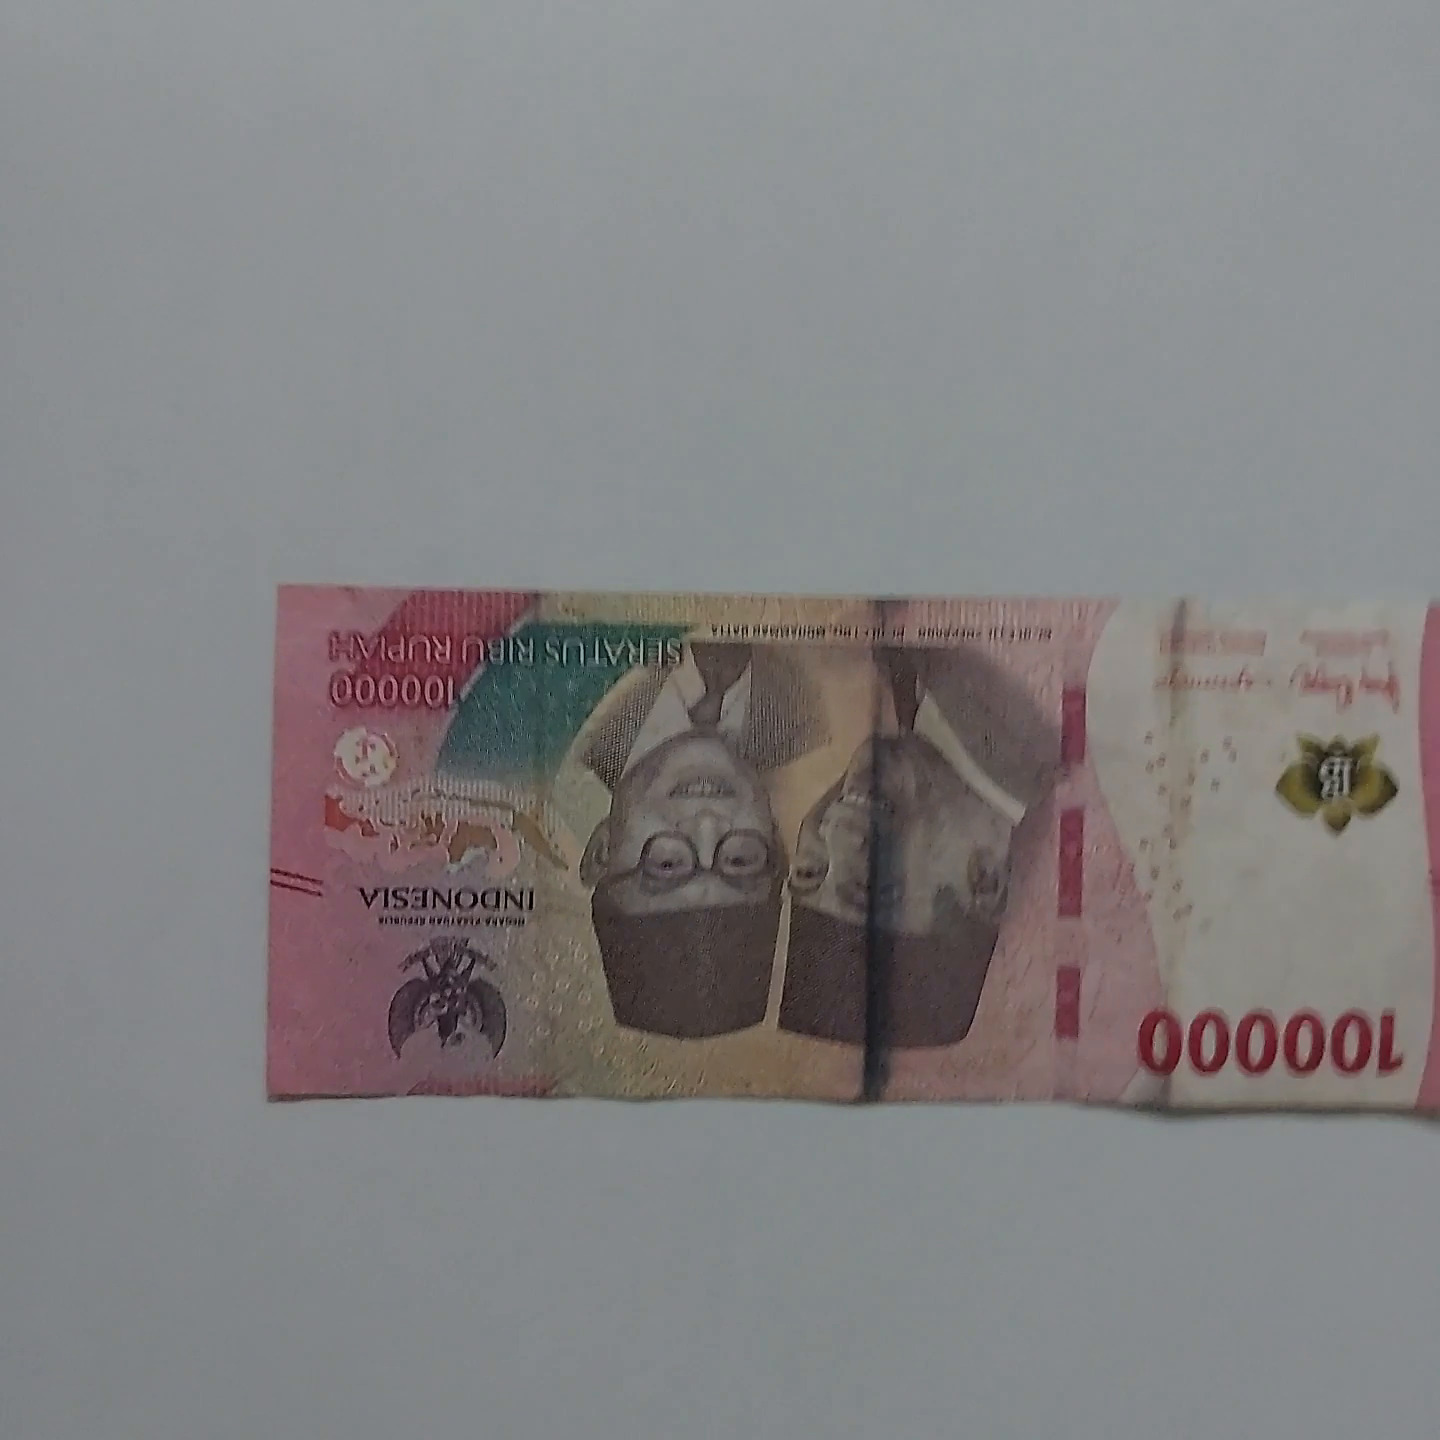100k: (251, 576, 1440, 1125)
